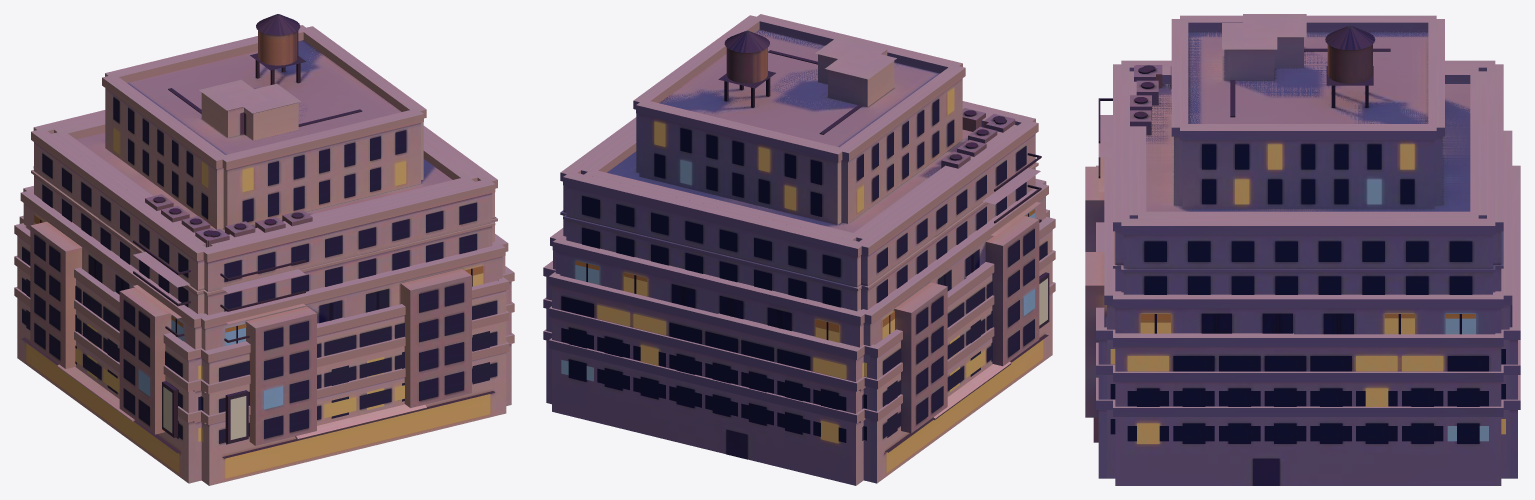
Rendered from filler.glb.
3 renders of one model, left to right at view 1: azimuth 30°, elevation 25°; view 2: azimuth 150°, elevation 25°; view 3: azimuth 270°, elevation 25°, orthographic. The views are drawn at different scales.
Visible parts, largest first — view 1: filler_9, filler_19, filler_6, filler_16, filler_11, filler_17, filler_1, filler_7, filler_8, filler_15, filler_18, filler_5 (+4 smaller); view 2: filler_9, filler_19, filler_15, filler_16, filler_17, filler_6, filler_1, filler_7, filler_11, filler_18, filler_8, filler_5 (+2 smaller); view 3: filler_19, filler_5, filler_9, filler_7, filler_16, filler_6, filler_1, filler_8, filler_18, filler_17, filler_11, filler_15.
Boxes of the visible parts, x1,y1,x2,y2 form: filler_9: (33,14,495,315); filler_19: (31,14,497,313); filler_6: (23,186,505,445); filler_16: (20,189,508,434); filler_11: (200,341,509,485); filler_17: (19,215,509,415); filler_1: (14,287,514,483); filler_7: (14,223,514,413); filler_8: (54,109,474,342); filler_15: (201,310,509,458); filler_18: (52,88,477,337); filler_5: (14,255,514,453); filler_9: (563,14,1035,311); filler_19: (560,15,1038,309); filler_15: (549,306,864,485); filler_16: (550,182,1048,481); filler_17: (549,209,1049,413); filler_6: (552,179,1046,347); filler_1: (543,282,1055,483); filler_7: (543,216,1055,411); filler_11: (549,338,864,485); filler_18: (581,104,1041,241); filler_8: (584,50,999,240); filler_5: (543,250,1055,452); filler_19: (1121,15,1495,294); filler_5: (1113,364,1503,485); filler_9: (1113,14,1503,292); filler_7: (1113,329,1503,406); filler_16: (1113,268,1503,334); filler_6: (1085,130,1512,478); filler_1: (1113,399,1503,441); filler_8: (1098,71,1486,218); filler_18: (1138,48,1478,218); filler_17: (1096,165,1520,399); filler_11: (1096,375,1520,478); filler_15: (1093,340,1520,442).
Size of the model in its own units: 5.2 by 5.11 by 5.2.
Materials: 1 (1 with a texture image).
